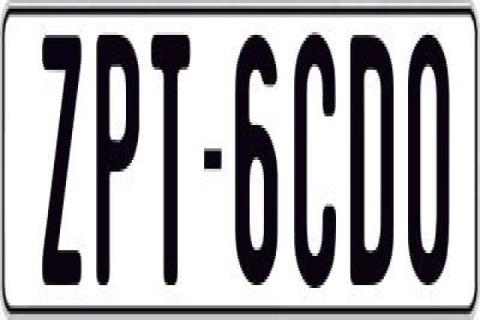0: (404, 35, 452, 291), (236, 29, 284, 279)
C: (294, 29, 338, 299)
D: (351, 32, 401, 294)
P: (92, 32, 140, 285)
T: (150, 27, 194, 286)
Z: (41, 26, 87, 276)
